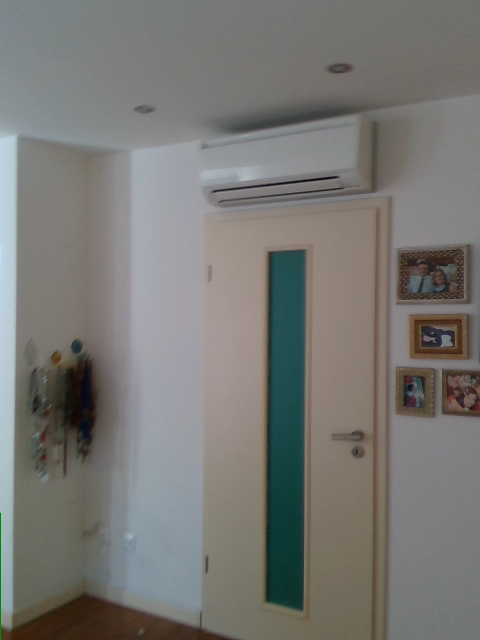closed: (197, 198, 388, 637)
